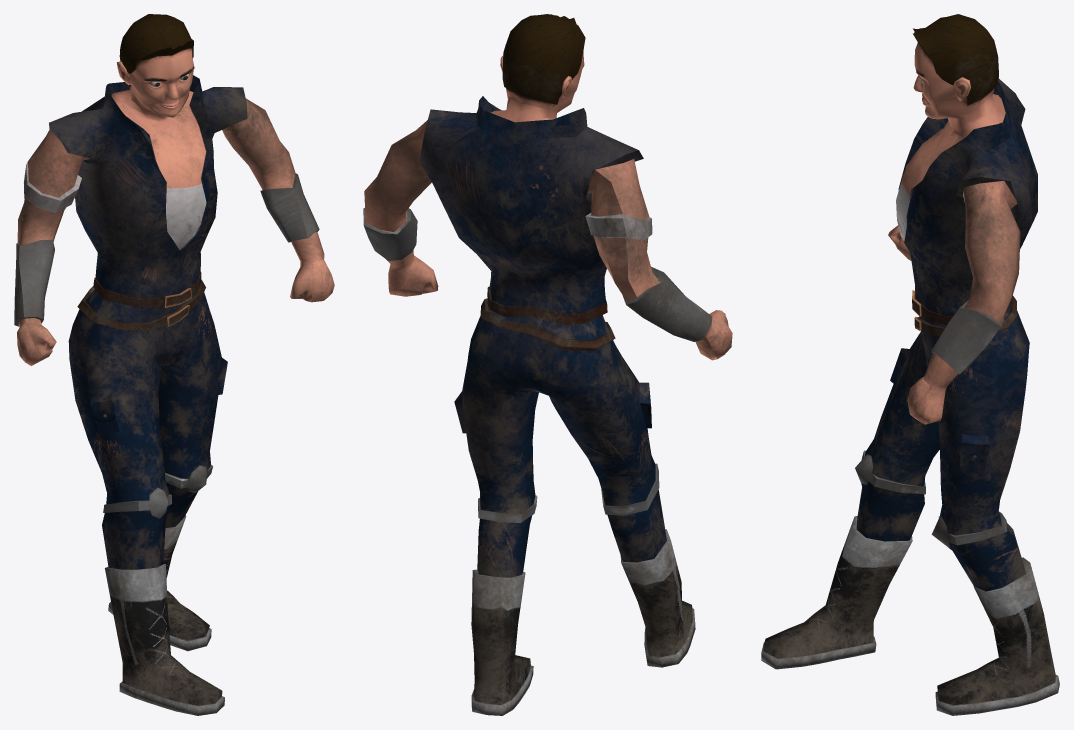
Rendered from Anim_interruptor_jugador.0020.obj.
3 renders of one model, left to right at view 1: azimuth 30°, elevation 25°; view 2: azimuth 150°, elevation 25°; view 3: azimuth 270°, elevation 25°, orthographic. The views are drawn at different scales.
Visible parts, largest first — view 1: polySurface1; view 2: polySurface1; view 3: polySurface1.
Boxes of the visible parts, box(x1,y1,x2,y2) form: polySurface1: box(14, 14, 334, 715); polySurface1: box(363, 14, 732, 715); polySurface1: box(761, 14, 1059, 715).
Size of the model in its own units: 4.94 by 9.49 by 3.83.
